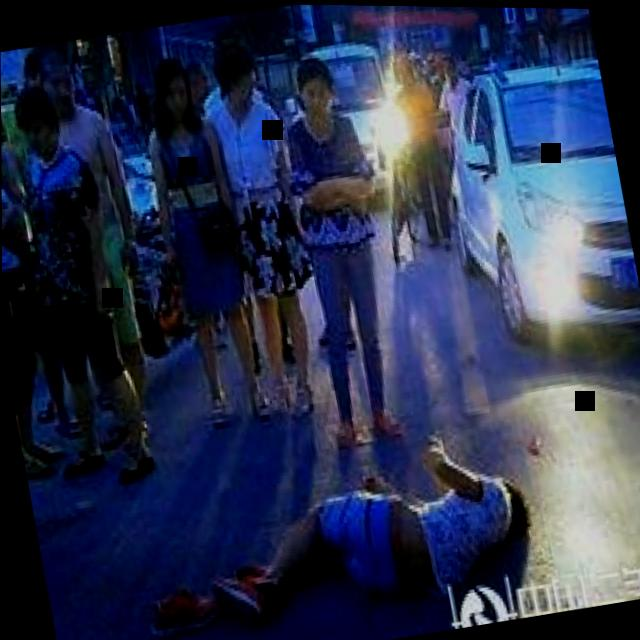Fall-Detected: (168, 389, 549, 640)
